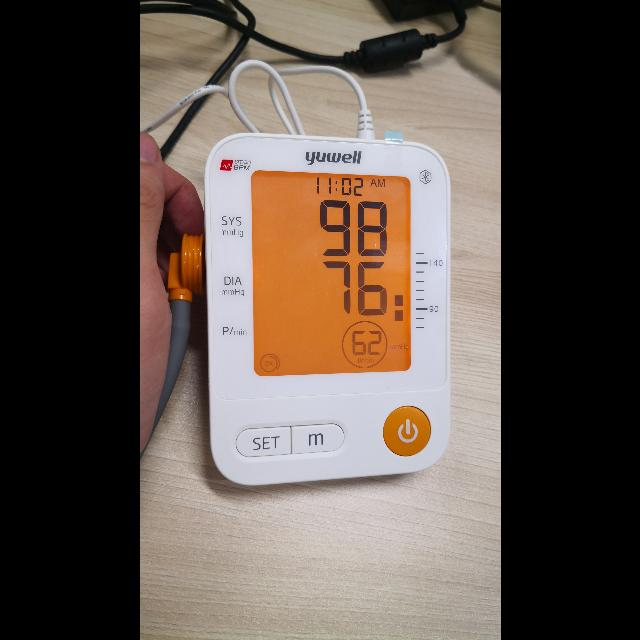Blood-Pressure-Monitor: (205, 132, 450, 484)
